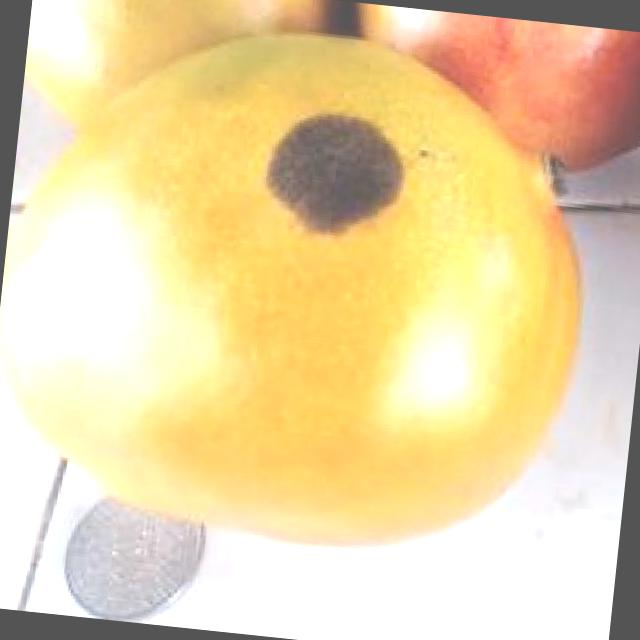Mango: (0, 4, 604, 561), (336, 1, 640, 184), (19, 0, 354, 151)
